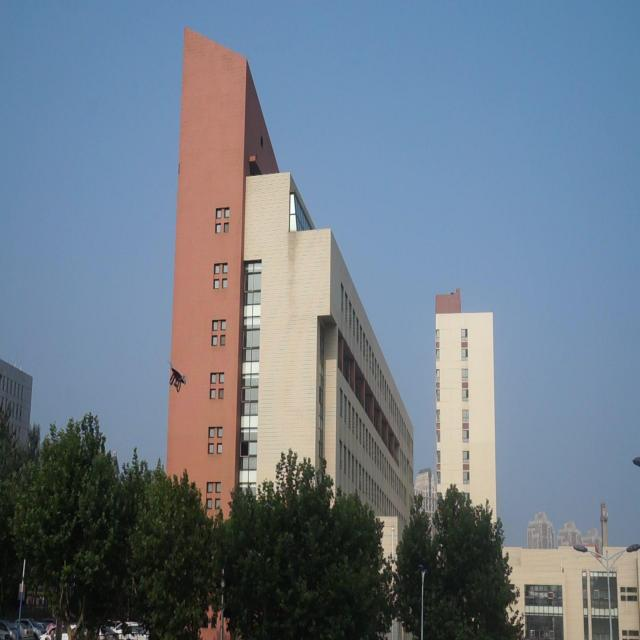UAV: (168, 360, 186, 393)
